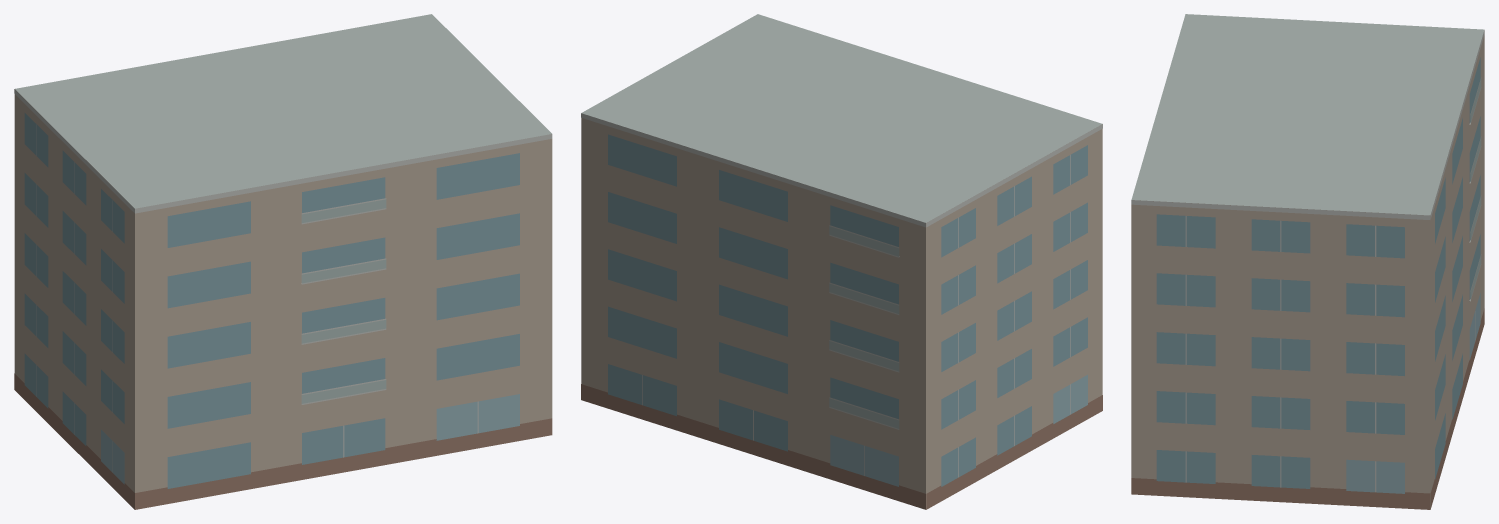
Rendered from residential-66d7f0e4-b249-447d-a329-8f2019e2bffd.glb.
3 renders of one model, left to right at view 1: azimuth 30°, elevation 25°; view 2: azimuth 150°, elevation 25°; view 3: azimuth 270°, elevation 25°, orthographic. The views are drawn at different scales.
Visible parts, largest first — view 1: residential-66d7f0e4-b249-447d-a329-8f2019e2bffd.tmp; view 2: residential-66d7f0e4-b249-447d-a329-8f2019e2bffd.tmp; view 3: residential-66d7f0e4-b249-447d-a329-8f2019e2bffd.tmp.
Boxes of the visible parts, box(x1,y1,x2,y2) form: residential-66d7f0e4-b249-447d-a329-8f2019e2bffd.tmp: box(14, 14, 552, 509); residential-66d7f0e4-b249-447d-a329-8f2019e2bffd.tmp: box(581, 14, 1102, 509); residential-66d7f0e4-b249-447d-a329-8f2019e2bffd.tmp: box(1131, 14, 1484, 509).
Size of the model in its own units: 22.39 by 15.25 by 16.59.
